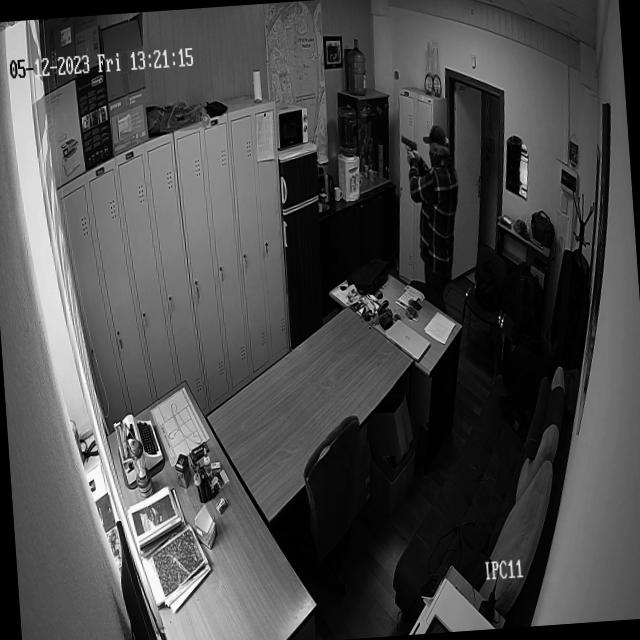gun: (399, 131, 418, 148)
person with a gun: (397, 110, 466, 296)
